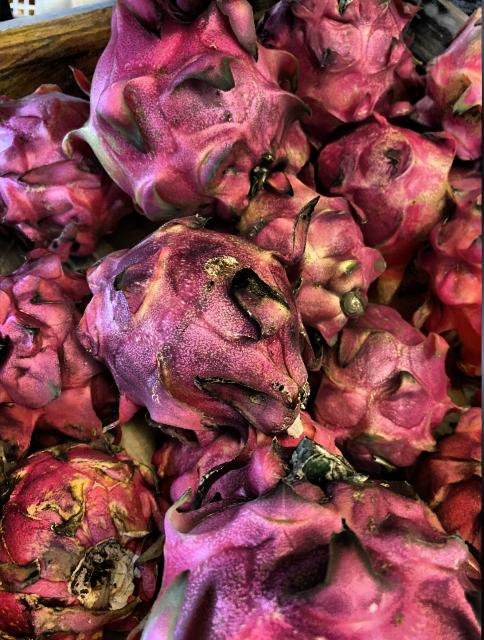buah-naga-belum-matang: (98, 228, 306, 420), (247, 165, 381, 321), (318, 118, 462, 242)
buah-naga-matang: (156, 448, 484, 640), (82, 9, 296, 197), (17, 448, 155, 640), (315, 308, 455, 470), (0, 258, 120, 444), (4, 89, 136, 254), (264, 2, 422, 134)
